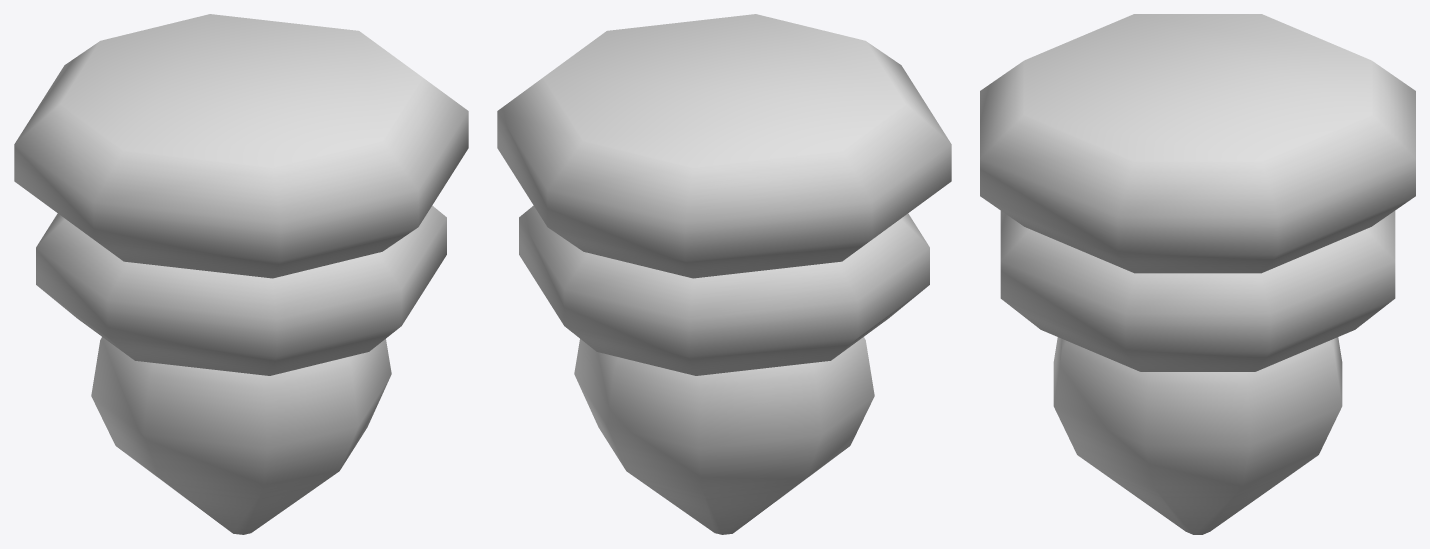
File: stone_pommel_156.glb
3 views of the same model, side by side, from view 1: azimuth 30°, elevation 25°; view 2: azimuth 150°, elevation 25°; view 3: azimuth 270°, elevation 25° (orthographic).
Parts seen in each view (by area): view 1: stone_pommel.156; view 2: stone_pommel.156; view 3: stone_pommel.156.
Boxes of the visible parts, box(x1,y1,x2,y2) form: stone_pommel.156: box(14, 14, 468, 534); stone_pommel.156: box(497, 14, 951, 534); stone_pommel.156: box(980, 14, 1415, 534).
Bounding box in the file's own units: 1.83 × 2.04 × 1.83.
1 material, 1 textured.
